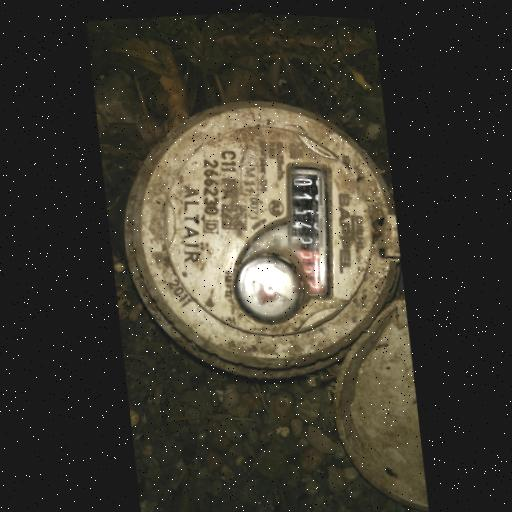0: (291, 171, 320, 194)
1: (290, 188, 319, 206)
2: (290, 247, 321, 267), (290, 231, 319, 250), (304, 276, 328, 296), (299, 262, 321, 281)
4: (290, 216, 320, 235)
5: (290, 203, 319, 222)
border_water_meter_number: (277, 161, 343, 302)
